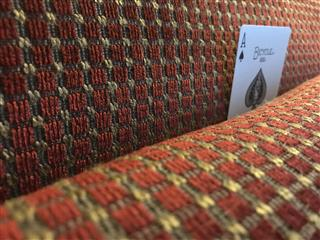AceOfSpades: (226, 23, 291, 120)
